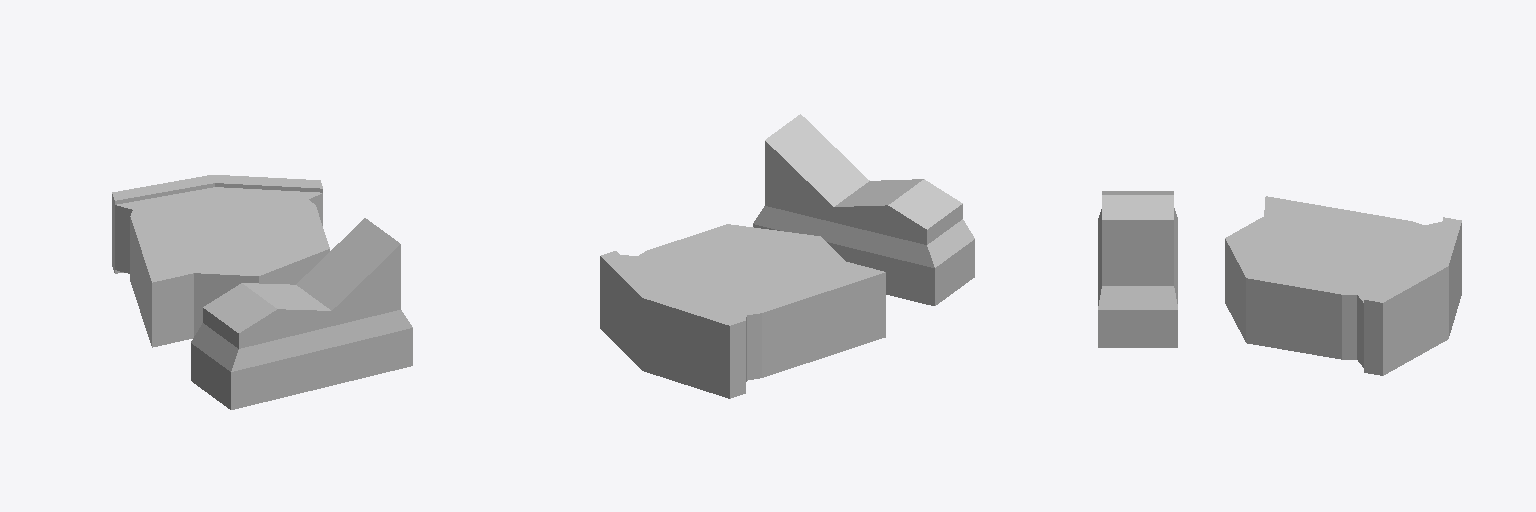
Rendered from gravestoneDebris.obj.
The picture shows the model from 3 angles: view 1: azimuth 30°, elevation 25°; view 2: azimuth 150°, elevation 25°; view 3: azimuth 270°, elevation 25°; orthographic projection.
Parts seen in each view (by area): view 1: gravestoneDebris; view 2: gravestoneDebris; view 3: gravestoneDebris.
Part boxes in pixels (left/top/right/bottom): gravestoneDebris: left=112, top=175, right=412, bottom=409; gravestoneDebris: left=600, top=114, right=974, bottom=398; gravestoneDebris: left=1098, top=191, right=1461, bottom=375.
Bounding box in the file's own units: 0.4968 × 0.2592 × 0.6751.